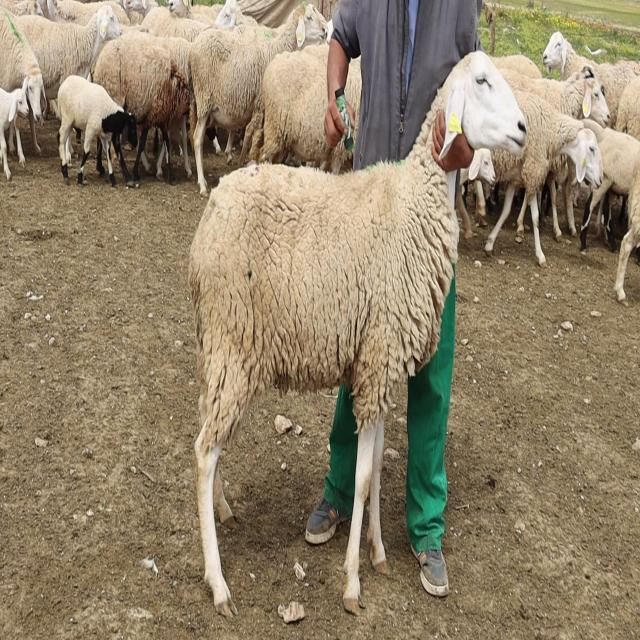Score_1: (187, 51, 527, 616)
